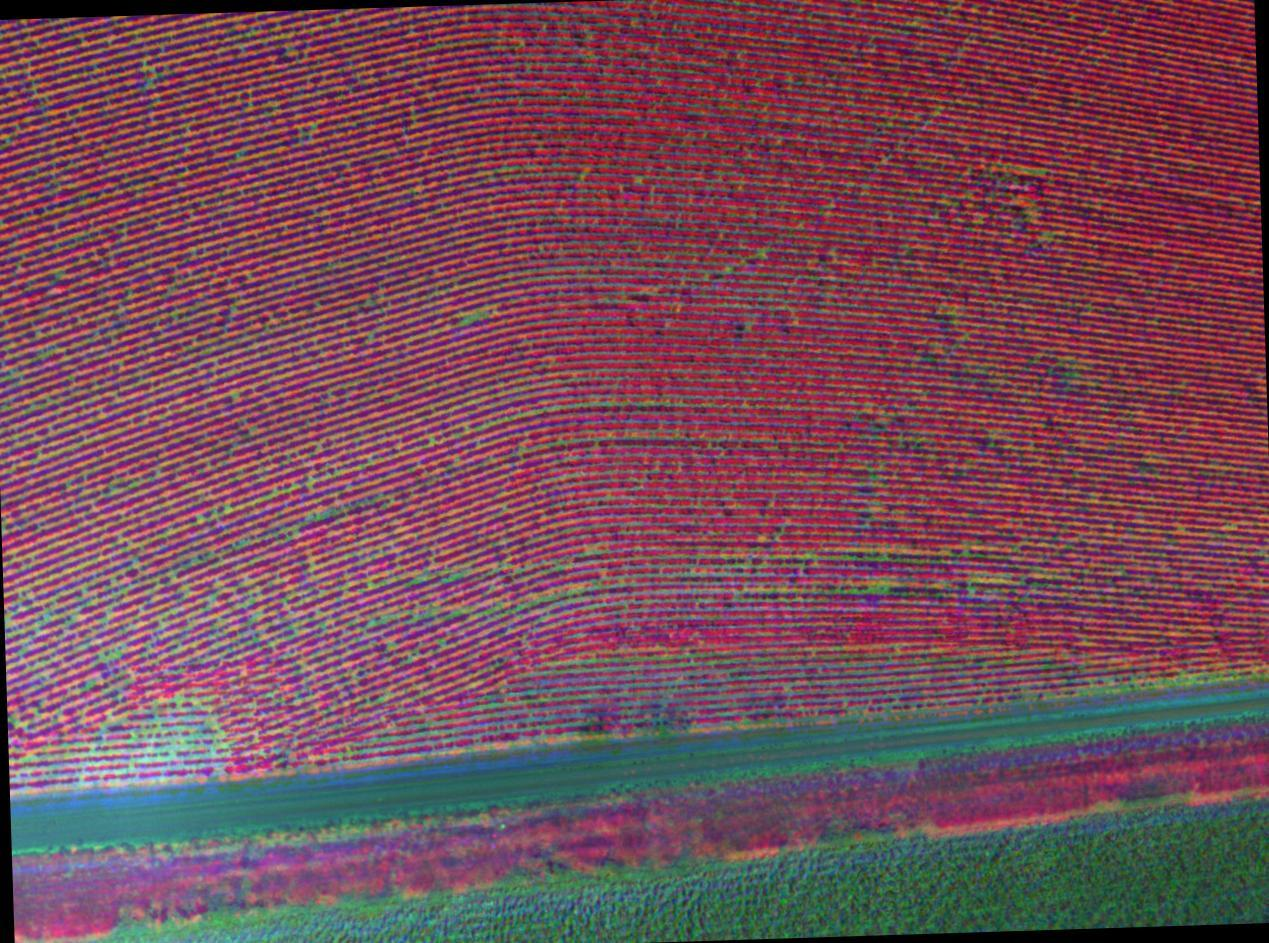dc: (872, 587, 878, 593), (207, 720, 213, 725), (472, 315, 477, 320), (234, 394, 238, 398), (176, 697, 179, 701), (132, 737, 136, 740)
